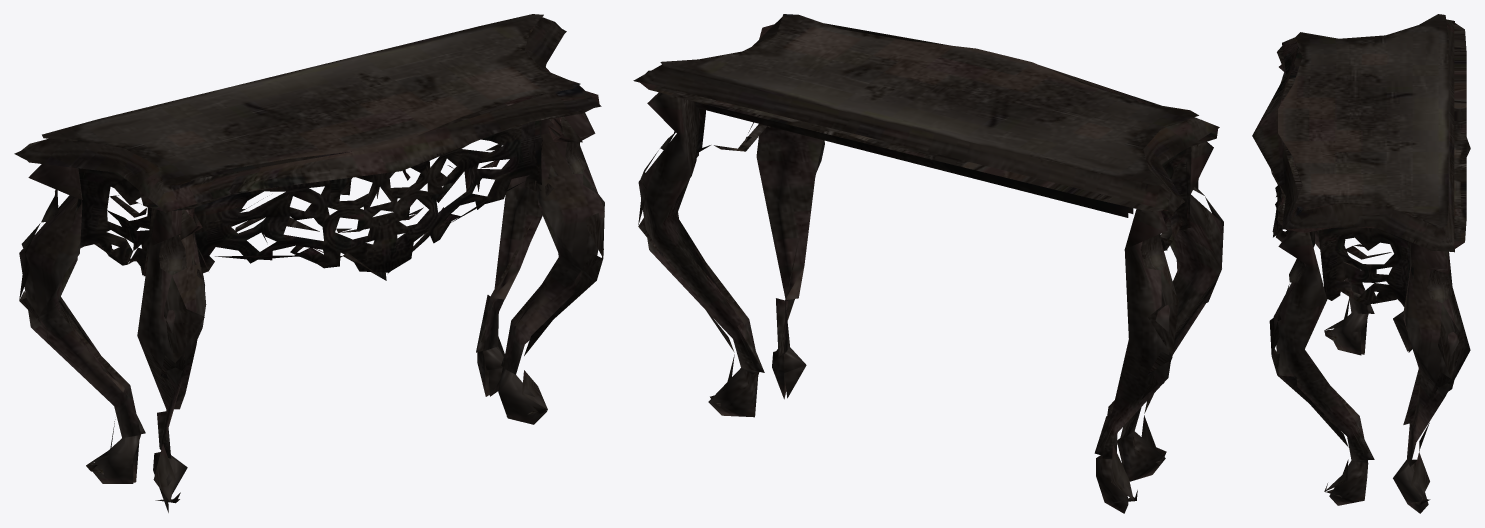
The model's file is ph_ClassicConsole_01.glb.
The picture shows the model from 3 angles, left to right: view 1: azimuth 30°, elevation 25°; view 2: azimuth 150°, elevation 25°; view 3: azimuth 270°, elevation 25°; orthographic projection. The views are drawn at different scales.
Visible parts, largest first — view 1: ClassicConsole_01; view 2: ClassicConsole_01; view 3: ClassicConsole_01.
Boxes of the visible parts, <box> form: ClassicConsole_01: <box>14,14,604,512</box>; ClassicConsole_01: <box>633,14,1223,513</box>; ClassicConsole_01: <box>1252,14,1470,513</box>.
Size of the model in its own units: 1.53 by 0.9474 by 0.6119.
Materials: 1 (1 with a texture image).
